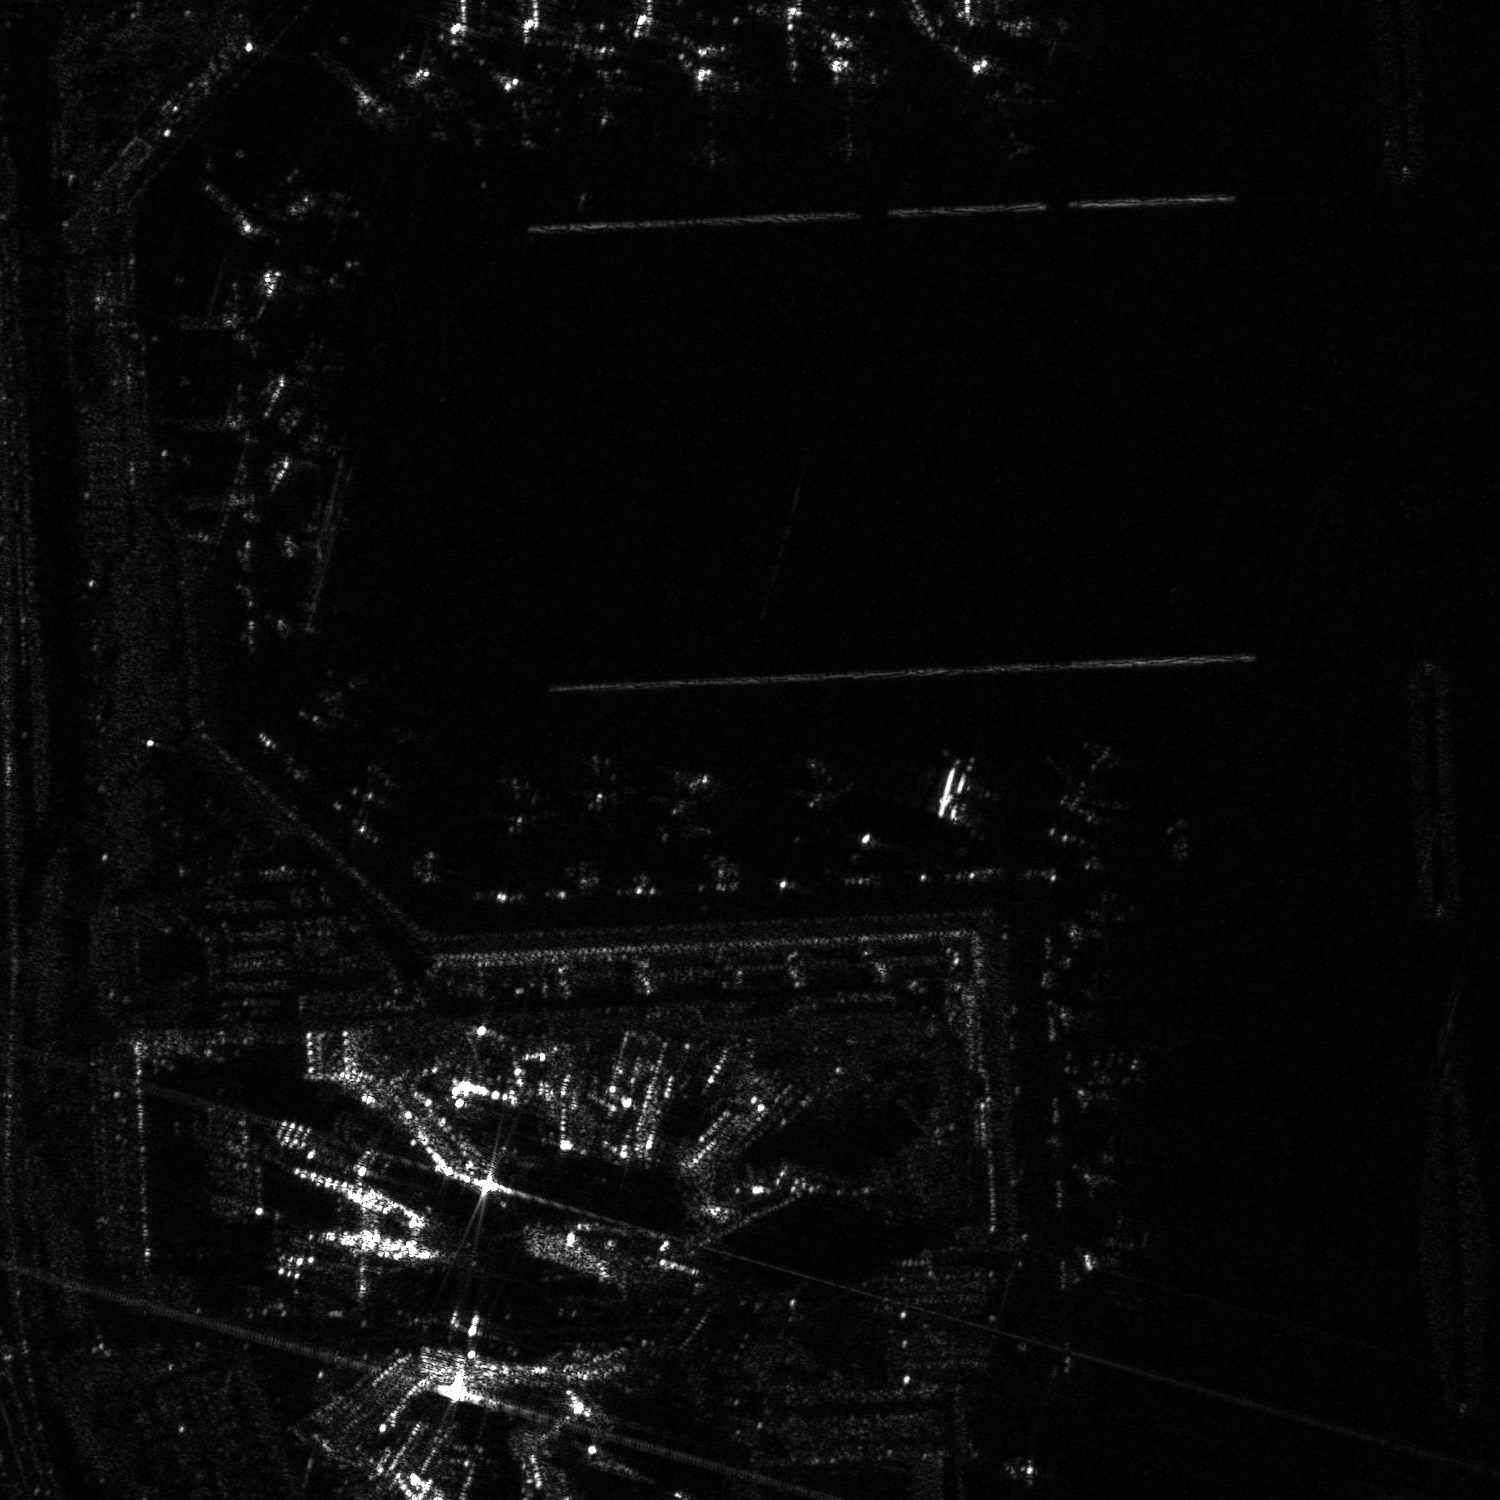A220: (571, 44, 646, 136), (294, 663, 376, 734), (569, 753, 646, 826), (1003, 1455, 1066, 1490)
A320/321: (1045, 738, 1144, 839)
Boeing737: (952, 52, 1066, 162), (481, 777, 566, 843)
Boeing787: (670, 47, 757, 176), (919, 754, 1001, 831), (779, 754, 854, 832)
other: (793, 54, 907, 162), (652, 768, 717, 843)
